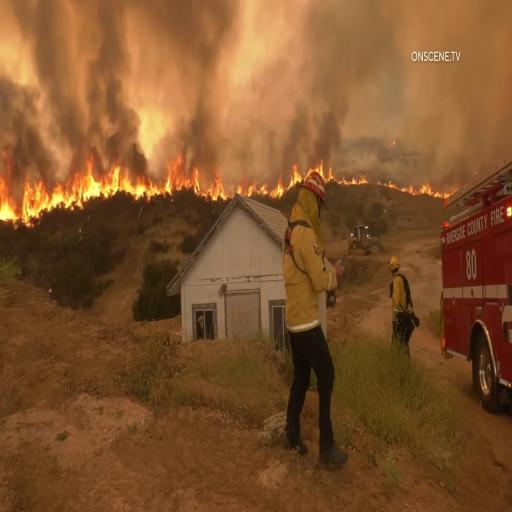fire: (80, 158, 210, 204), (0, 161, 89, 226)
smoke: (156, 1, 225, 155), (95, 6, 145, 165), (3, 74, 42, 169)
